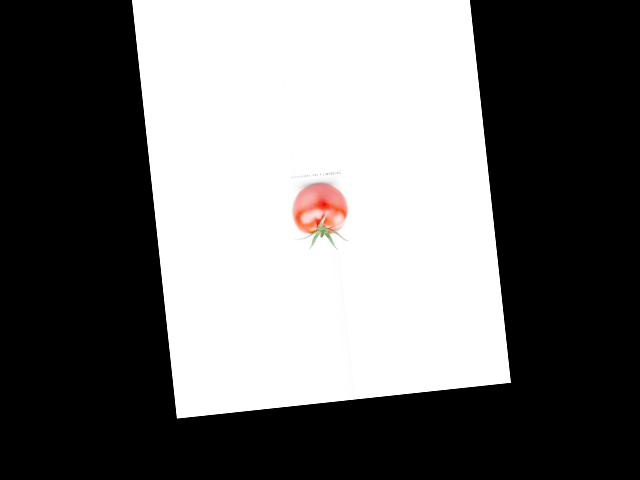tomato: (289, 181, 350, 237)
